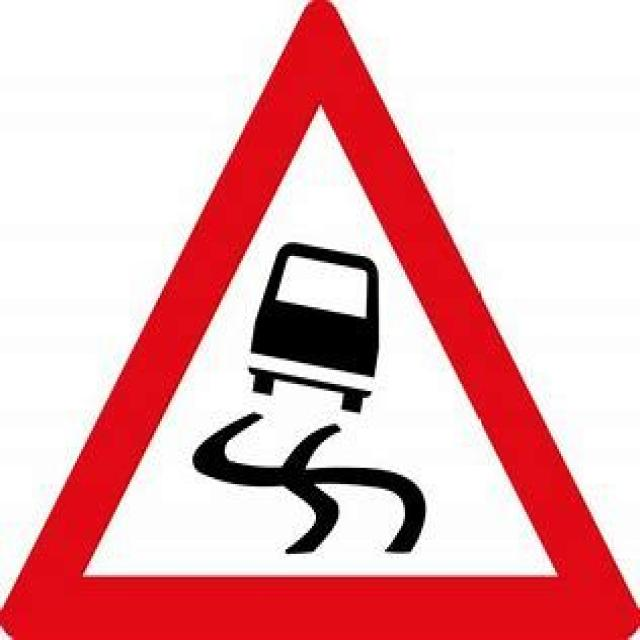children: (0, 0, 638, 638)
